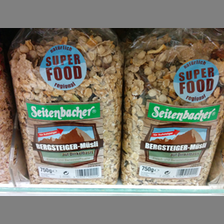cereal: (9, 32, 123, 183), (123, 35, 222, 187)
